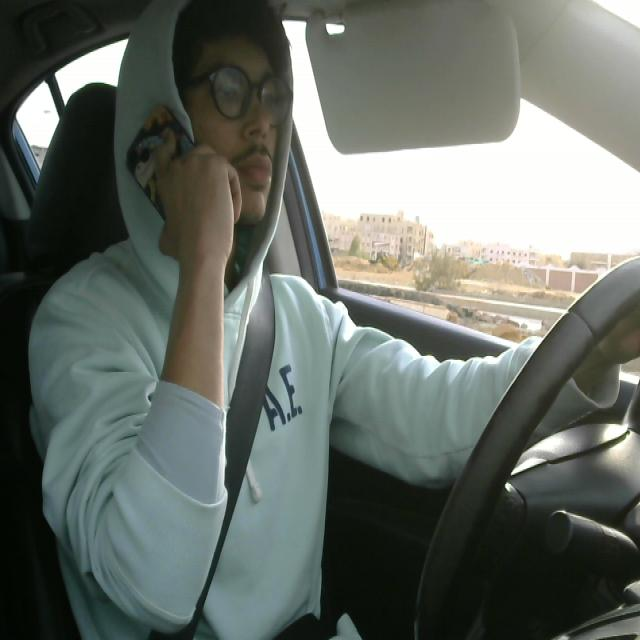mobile use: (123, 96, 227, 232)
